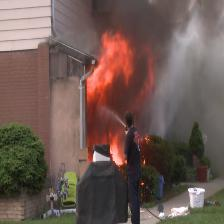fire: (78, 27, 157, 180)
nofire: (196, 159, 212, 184)
smoke: (83, 0, 224, 100), (157, 0, 224, 159)
